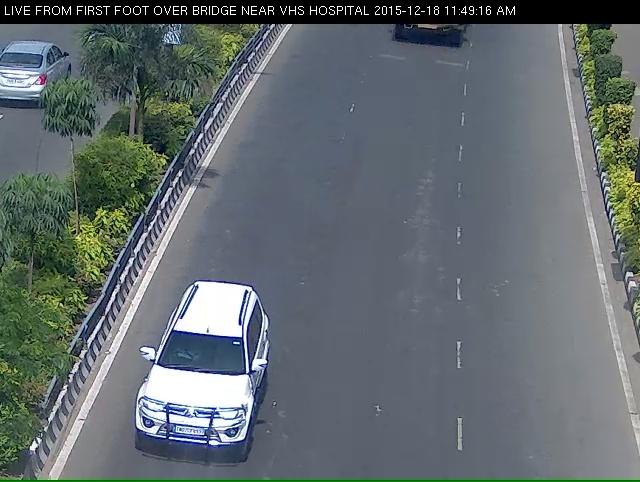Car: (122, 312, 250, 478)
